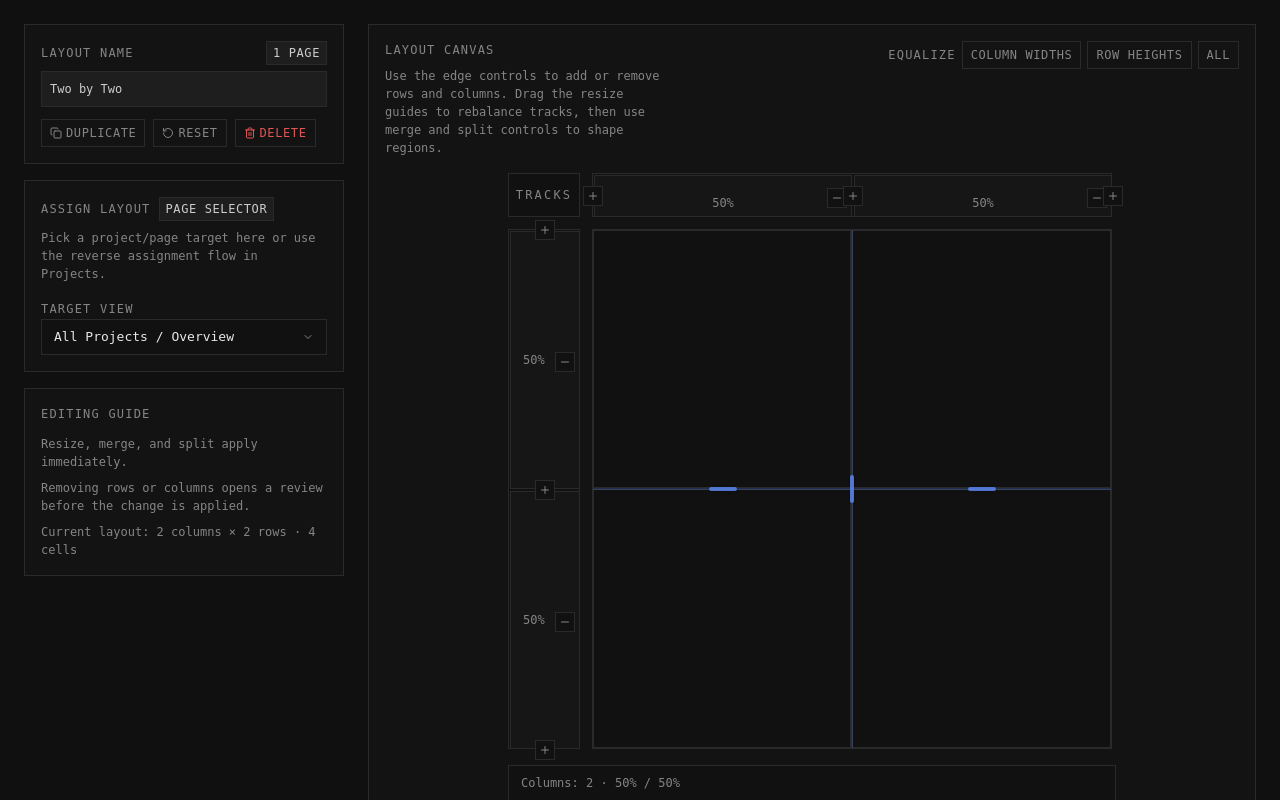
Scenario: LayoutDetailPanel › matches the destructive removal modal state
The image size is (1280, 800).
Click the button named "Remove column 2".
click(1097, 198)  # box [1087,188,1107,208]
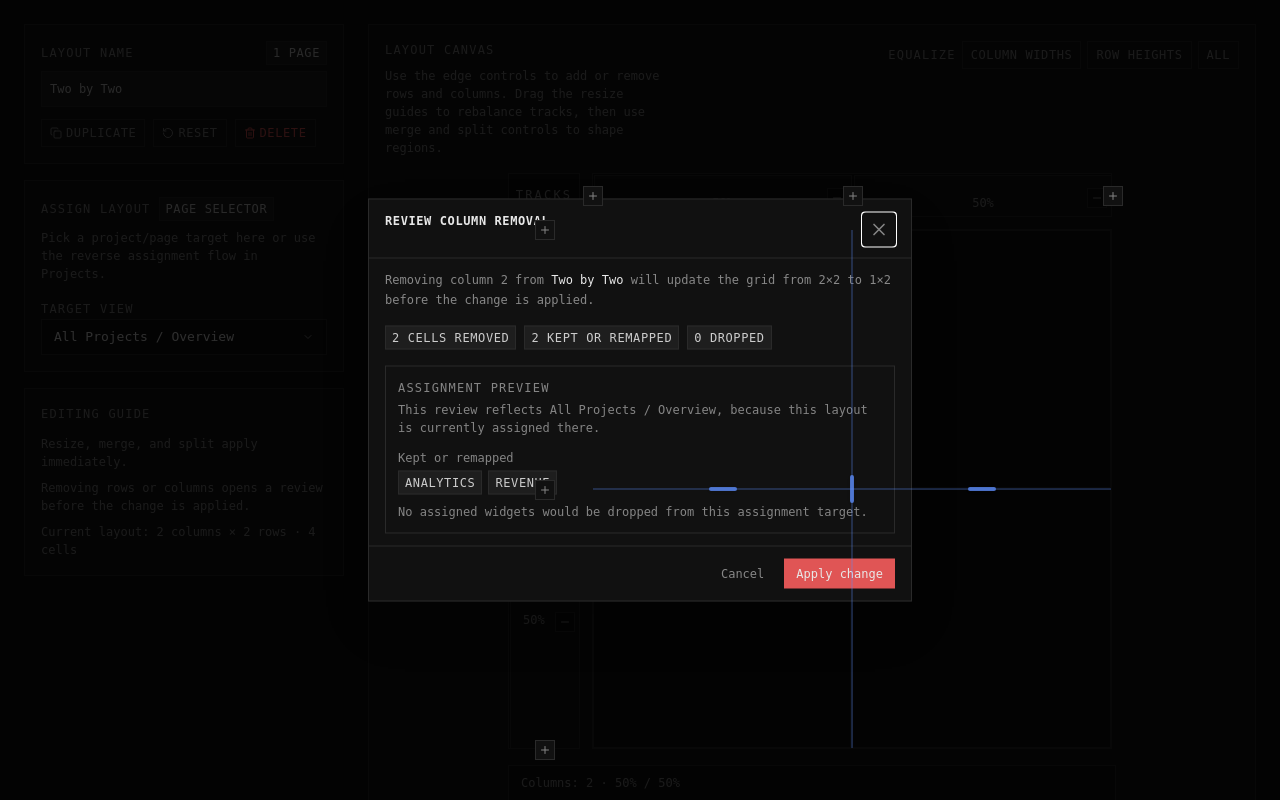
Now the heading "Review Column Removal" is shown, box [385,214,549,228]
